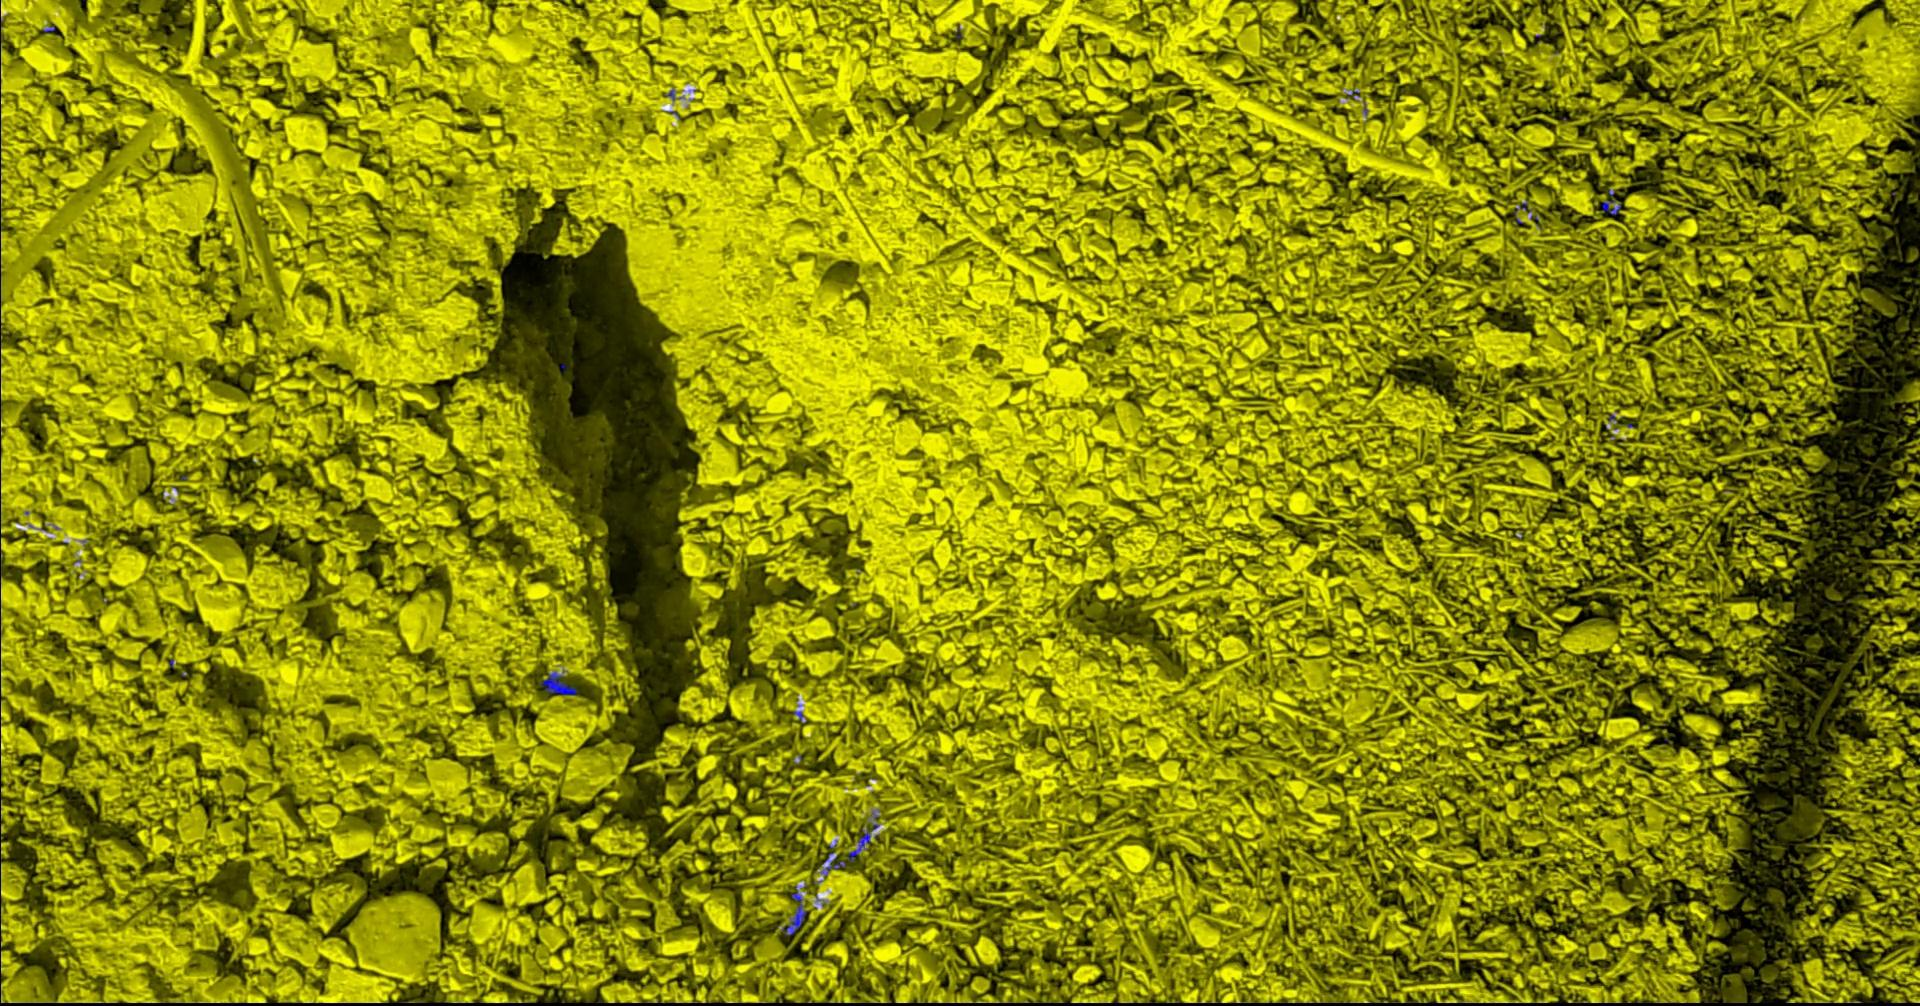ant: (847, 810, 879, 862), (781, 885, 806, 935), (540, 669, 577, 695), (820, 843, 844, 875), (1512, 202, 1540, 227), (1601, 199, 1620, 215)
